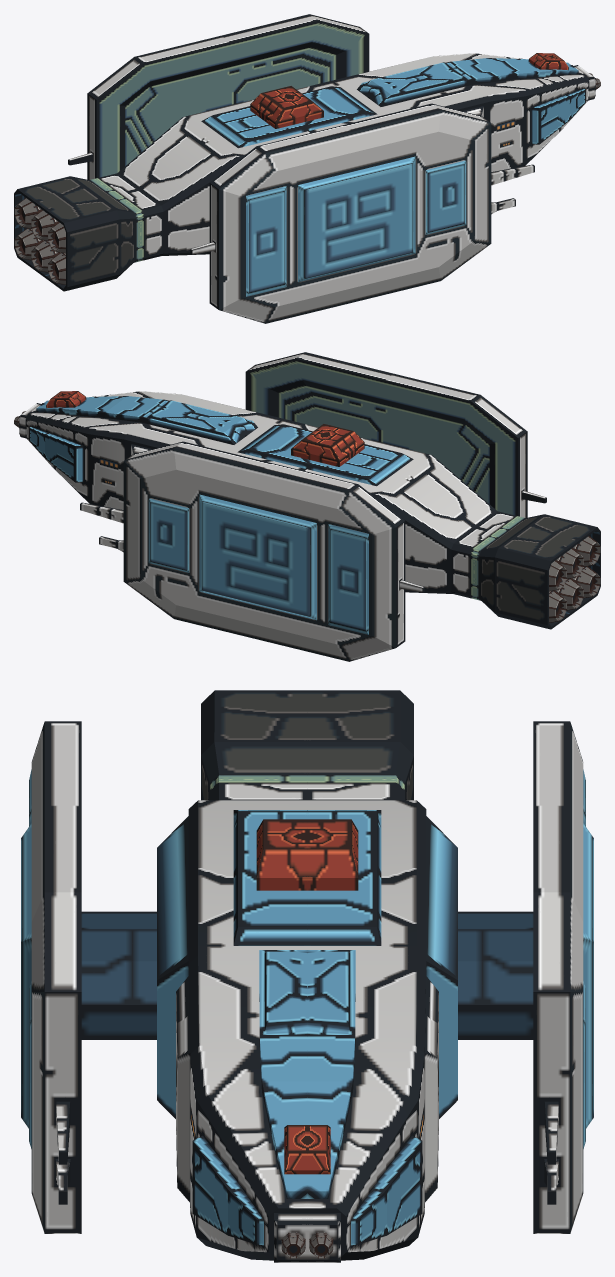
Rendered from ship_1.obj.
3 renders of one model, top to bottom at view 1: azimuth 30°, elevation 25°; view 2: azimuth 150°, elevation 25°; view 3: azimuth 270°, elevation 25°, orthographic. The views are drawn at different scales.
Parts seen in each view (by area): view 1: Armor_1.001, main_hull, Armor_1, Engine, Power_Generator, Cylinder.003, Cylinder.001, Cylinder.002, Power_Generator.002, Cylinder, Cylinder.005, Cylinder.004; view 2: Armor_1, main_hull, Armor_1.001, Engine, Power_Generator, Cylinder.005, Cylinder.001, Cylinder.004, Power_Generator.002, Cylinder, Cylinder.003, Cylinder.002; view 3: main_hull, Armor_1, Armor_1.001, Engine, Struts, Power_Generator, Power_Generator.002.
Boxes of the visible parts, <box> form: Armor_1.001: <box>190,103,534,323</box>; main_hull: <box>117,53,595,255</box>; Armor_1: <box>68,14,369,179</box>; Engine: <box>14,173,163,291</box>; Power_Generator: <box>250,86,323,128</box>; Cylinder.003: <box>14,228,43,260</box>; Cylinder.001: <box>31,240,60,272</box>; Cylinder.002: <box>14,198,42,228</box>; Power_Generator.002: <box>528,53,568,70</box>; Cylinder: <box>31,210,59,240</box>; Cylinder.005: <box>48,253,65,284</box>; Cylinder.004: <box>48,222,65,253</box>; Armor_1: <box>80,441,424,661</box>; main_hull: <box>19,391,497,593</box>; Armor_1.001: <box>245,352,546,517</box>; Engine: <box>451,511,600,629</box>; Power_Generator: <box>291,424,364,466</box>; Cylinder.005: <box>571,566,600,598</box>; Cylinder.001: <box>554,578,583,610</box>; Cylinder.004: <box>572,536,600,566</box>; Power_Generator.002: <box>46,391,86,408</box>; Cylinder: <box>555,548,583,578</box>; Cylinder.003: <box>549,591,566,622</box>; Cylinder.002: <box>549,560,566,591</box>; main_hull: <box>157,800,457,1262</box>; Armor_1: <box>533,721,593,1233</box>; Armor_1.001: <box>21,721,81,1233</box>; Engine: <box>201,690,413,800</box>; Struts: <box>81,911,533,1039</box>; Power_Generator: <box>256,819,358,890</box>; Power_Generator.002: <box>284,1125,330,1174</box>.
Bounding box in the file's own units: 7.04 × 2.06 × 3.13.
1 material, 1 textured.
